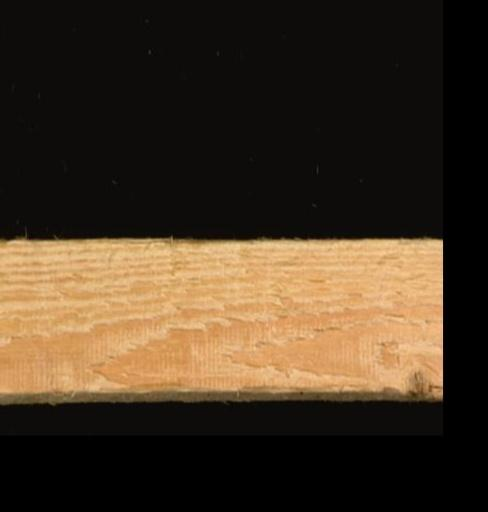edge_knot: (404, 365, 441, 398)
